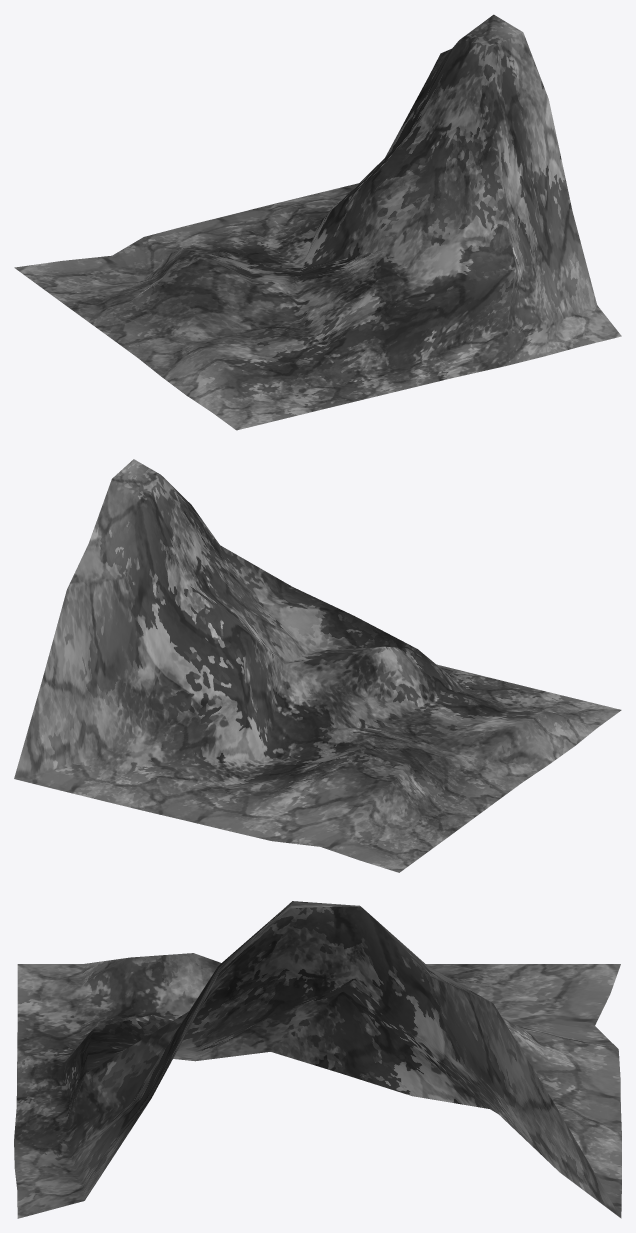
The model's file is Rubblepile3.fbx.
The picture shows the model from 3 angles, top to bottom: view 1: azimuth 30°, elevation 25°; view 2: azimuth 150°, elevation 25°; view 3: azimuth 270°, elevation 25°; orthographic projection. The views are drawn at different scales.
Parts seen in each view (by area): view 1: Rubble2; view 2: Rubble2; view 3: Rubble2.
Boxes of the visible parts, bbox=[...] form: Rubble2: bbox=[14, 14, 621, 430]; Rubble2: bbox=[14, 459, 621, 872]; Rubble2: bbox=[14, 901, 621, 1218].
Size of the model in its own units: 1701 by 972 by 1697.
